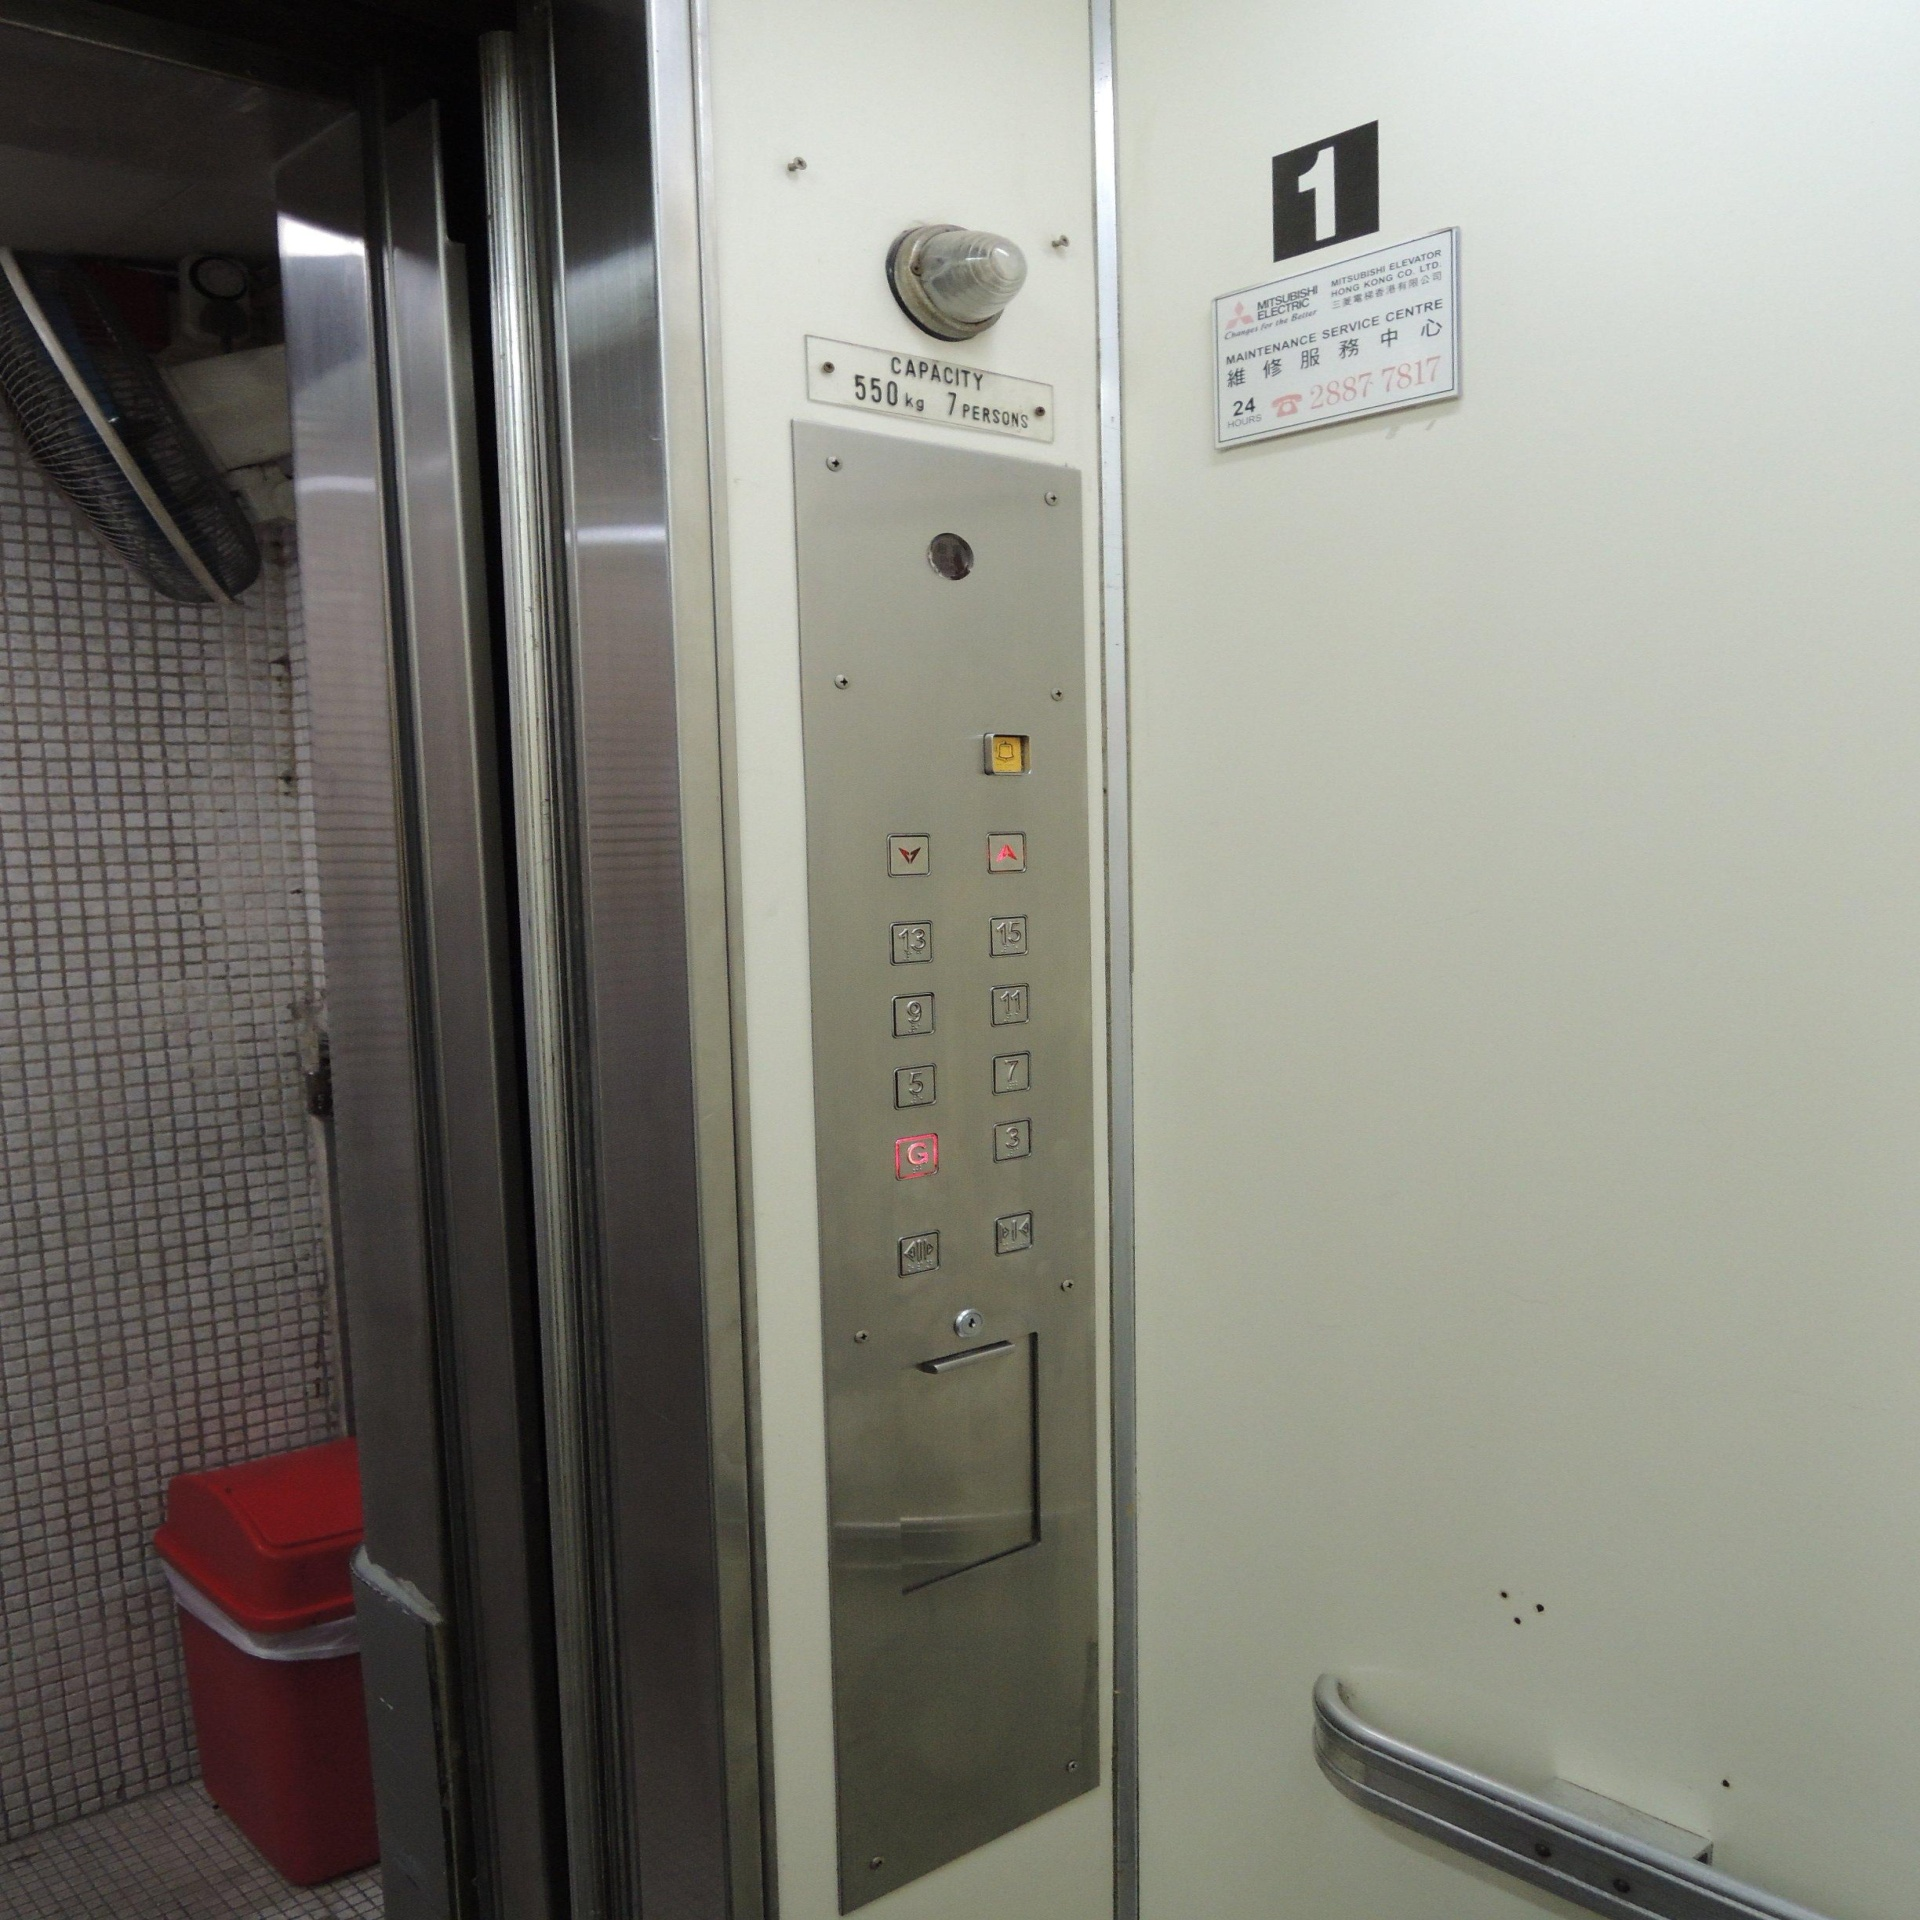11: (990, 983, 1030, 1027)
13: (888, 920, 934, 969)
15: (986, 913, 1029, 958)
3: (992, 1116, 1032, 1164)
5: (893, 1064, 937, 1109)
7: (992, 1051, 1030, 1094)
9: (891, 992, 935, 1037)
G: (893, 1132, 939, 1183)
alarm: (985, 731, 1032, 775)
blur: (925, 529, 978, 582)
close: (993, 1210, 1034, 1259)
down: (884, 832, 934, 879)
keyhole: (955, 1308, 983, 1336)
open: (898, 1229, 942, 1278)
up: (986, 832, 1027, 876)
